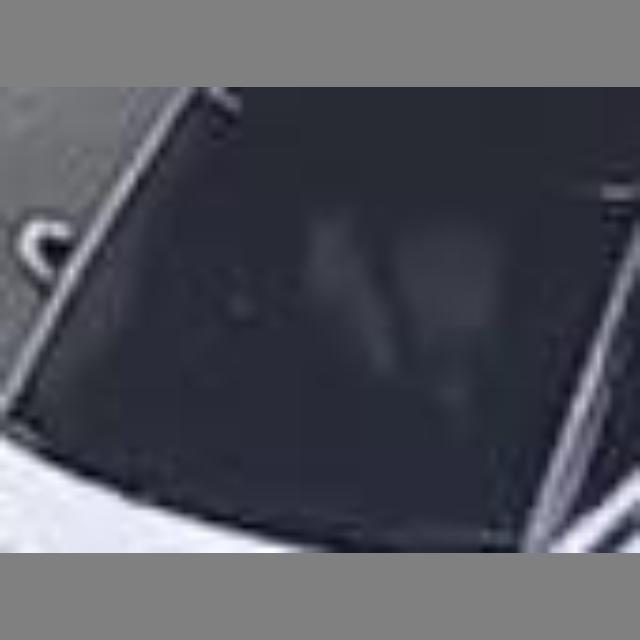pakai: (271, 177, 520, 411)
